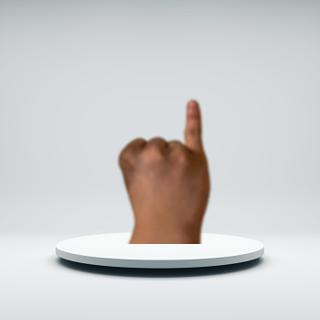FINE: (114, 96, 215, 233)
